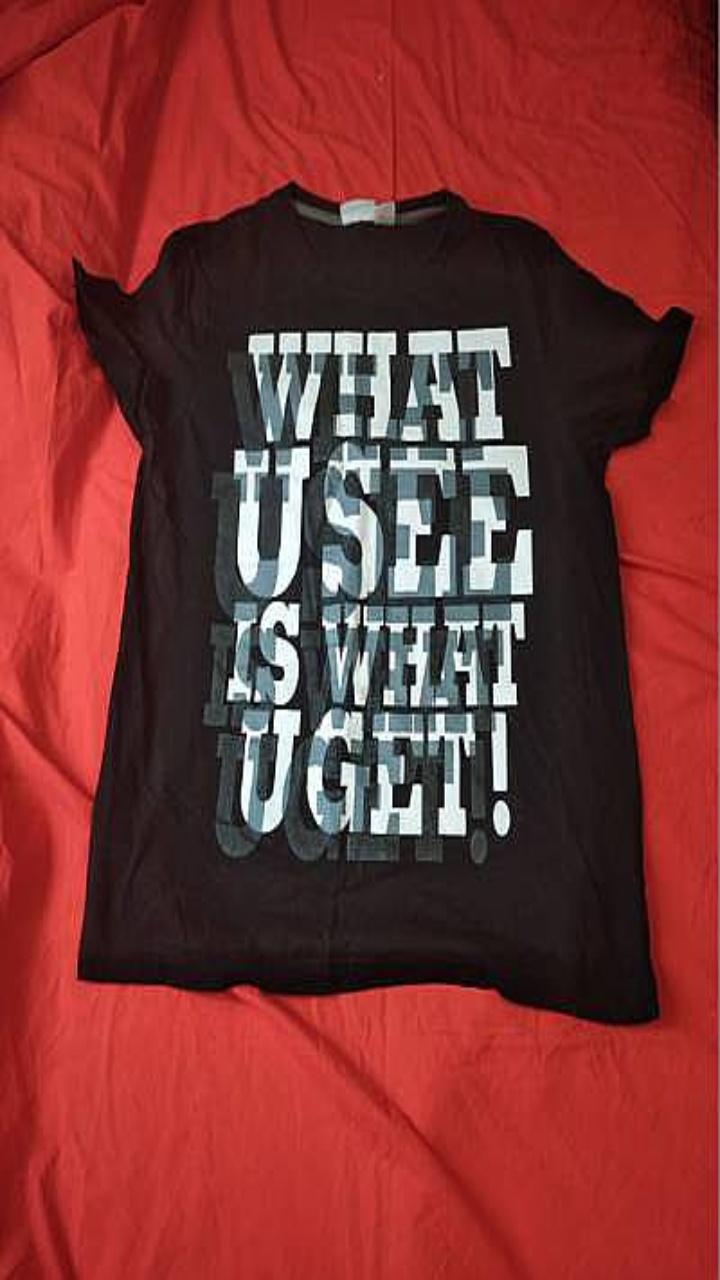T-Shirt: (72, 182, 693, 1022)
